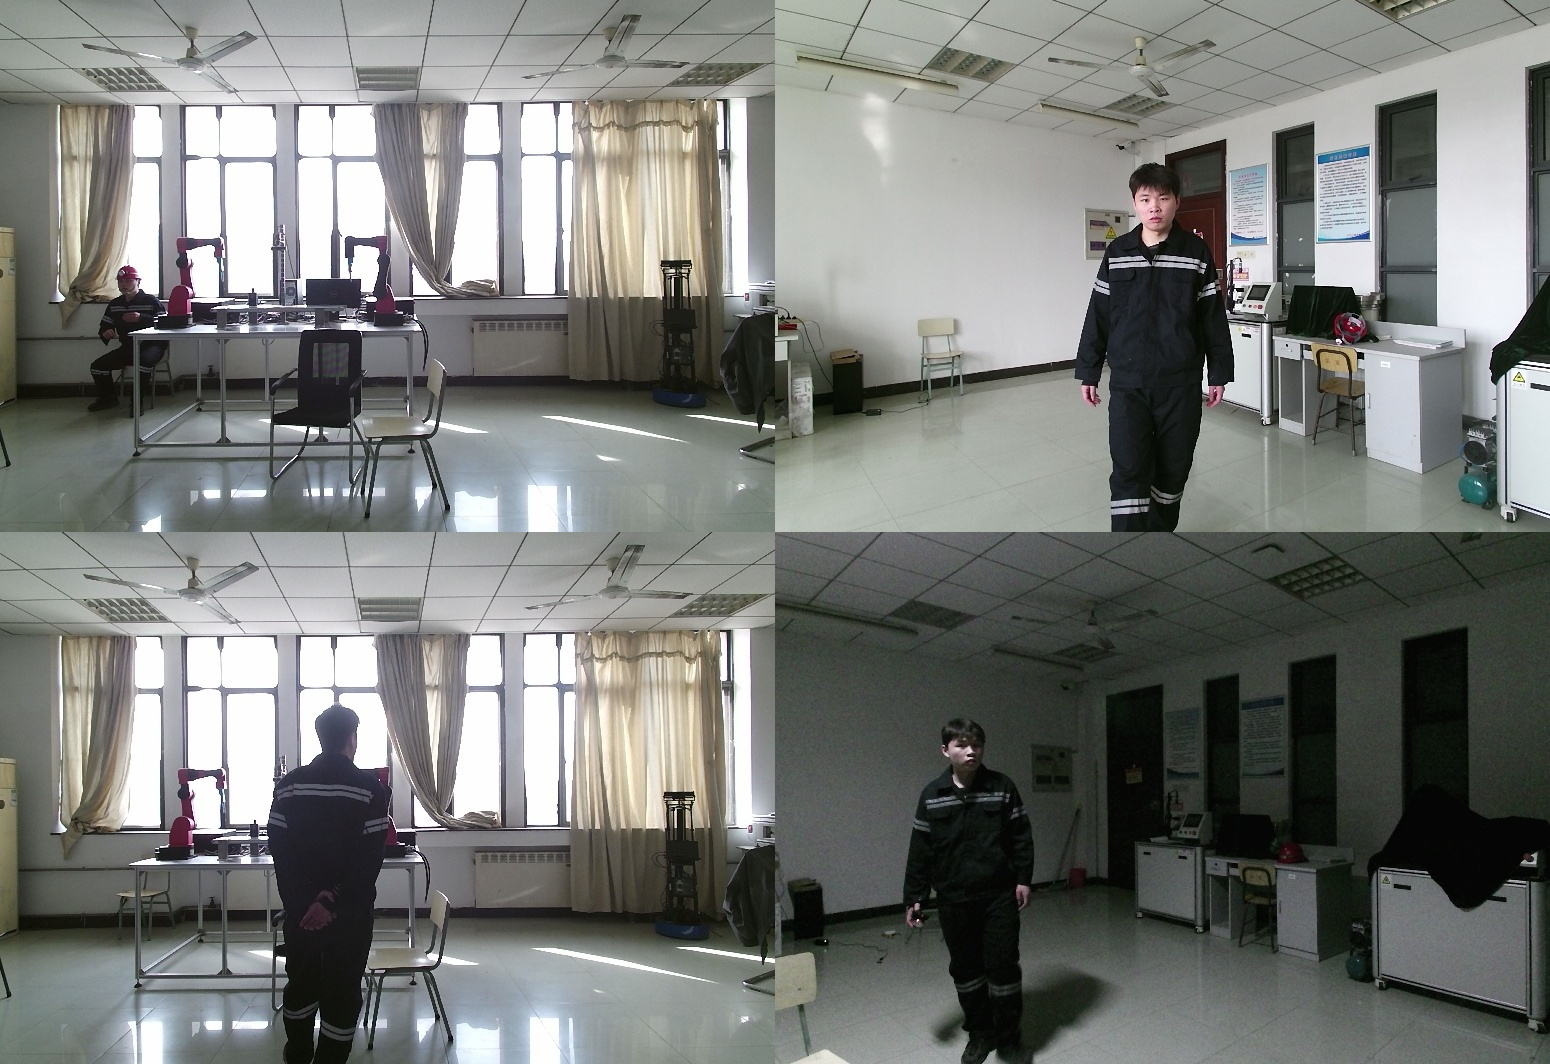person: (1076, 165, 1245, 532), (265, 705, 413, 1064), (904, 719, 1043, 1064), (82, 265, 179, 413)
